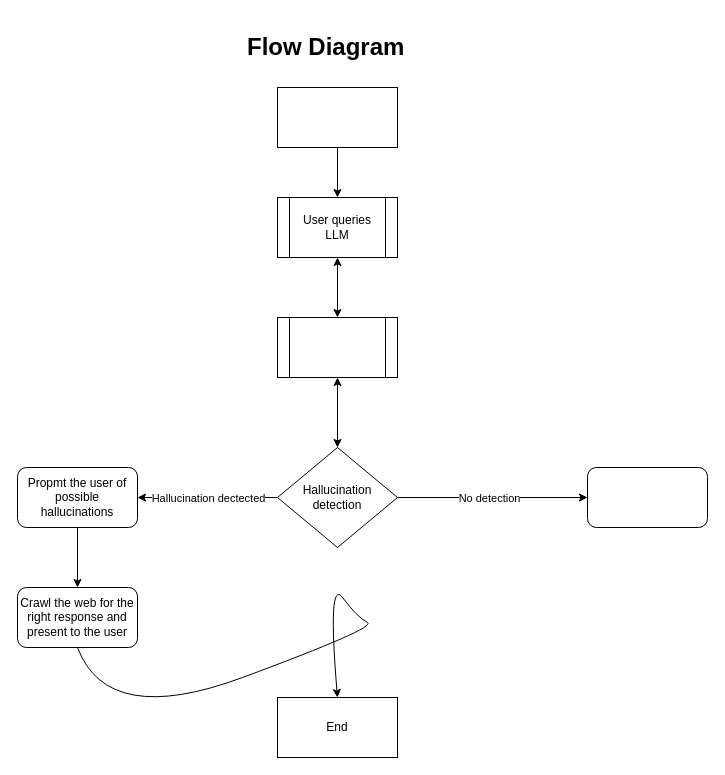
Image size: 725x775. Some labels were removed from this diagram. The box of each missing label's shape, as (x1, y1, x2, y2) in pixels:
Atlas scans response and checks for signs of hallucination: (276, 316, 398, 378)
Continue scanning response from LLM: (586, 466, 708, 528)
Start: (276, 86, 398, 148)
